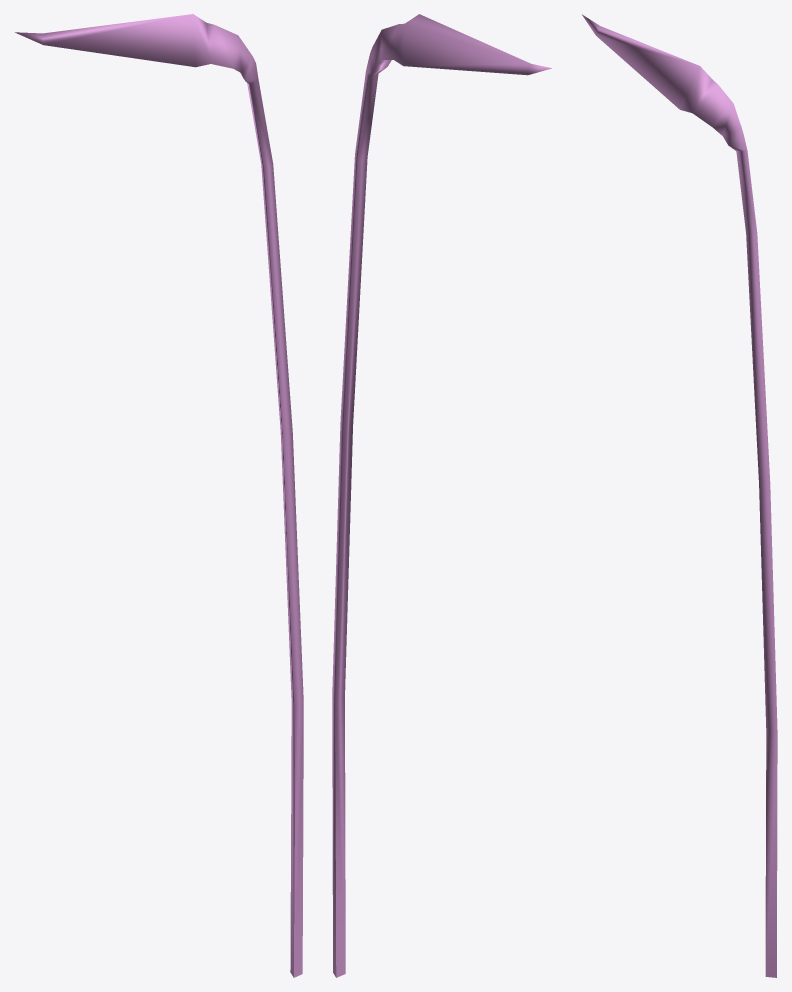
Rendered from Vegetation_Verdant_Plant_Frond_Bioluminescent_02.FBX.
3 renders of one model, left to right at view 1: azimuth 30°, elevation 25°; view 2: azimuth 150°, elevation 25°; view 3: azimuth 330°, elevation 25°, orthographic. The views are drawn at different scales.
Visible parts, largest first — view 1: Vegetation_Verdant_Plant_Frond_Bioluminescent_02; view 2: Vegetation_Verdant_Plant_Frond_Bioluminescent_02; view 3: Vegetation_Verdant_Plant_Frond_Bioluminescent_02.
Part boxes in pixels (box(x1,y1,x2,y2)): Vegetation_Verdant_Plant_Frond_Bioluminescent_02: box(15, 14, 303, 977); Vegetation_Verdant_Plant_Frond_Bioluminescent_02: box(332, 14, 551, 977); Vegetation_Verdant_Plant_Frond_Bioluminescent_02: box(582, 14, 777, 977).
Size of the model in its own units: 531 by 1956 by 139.
